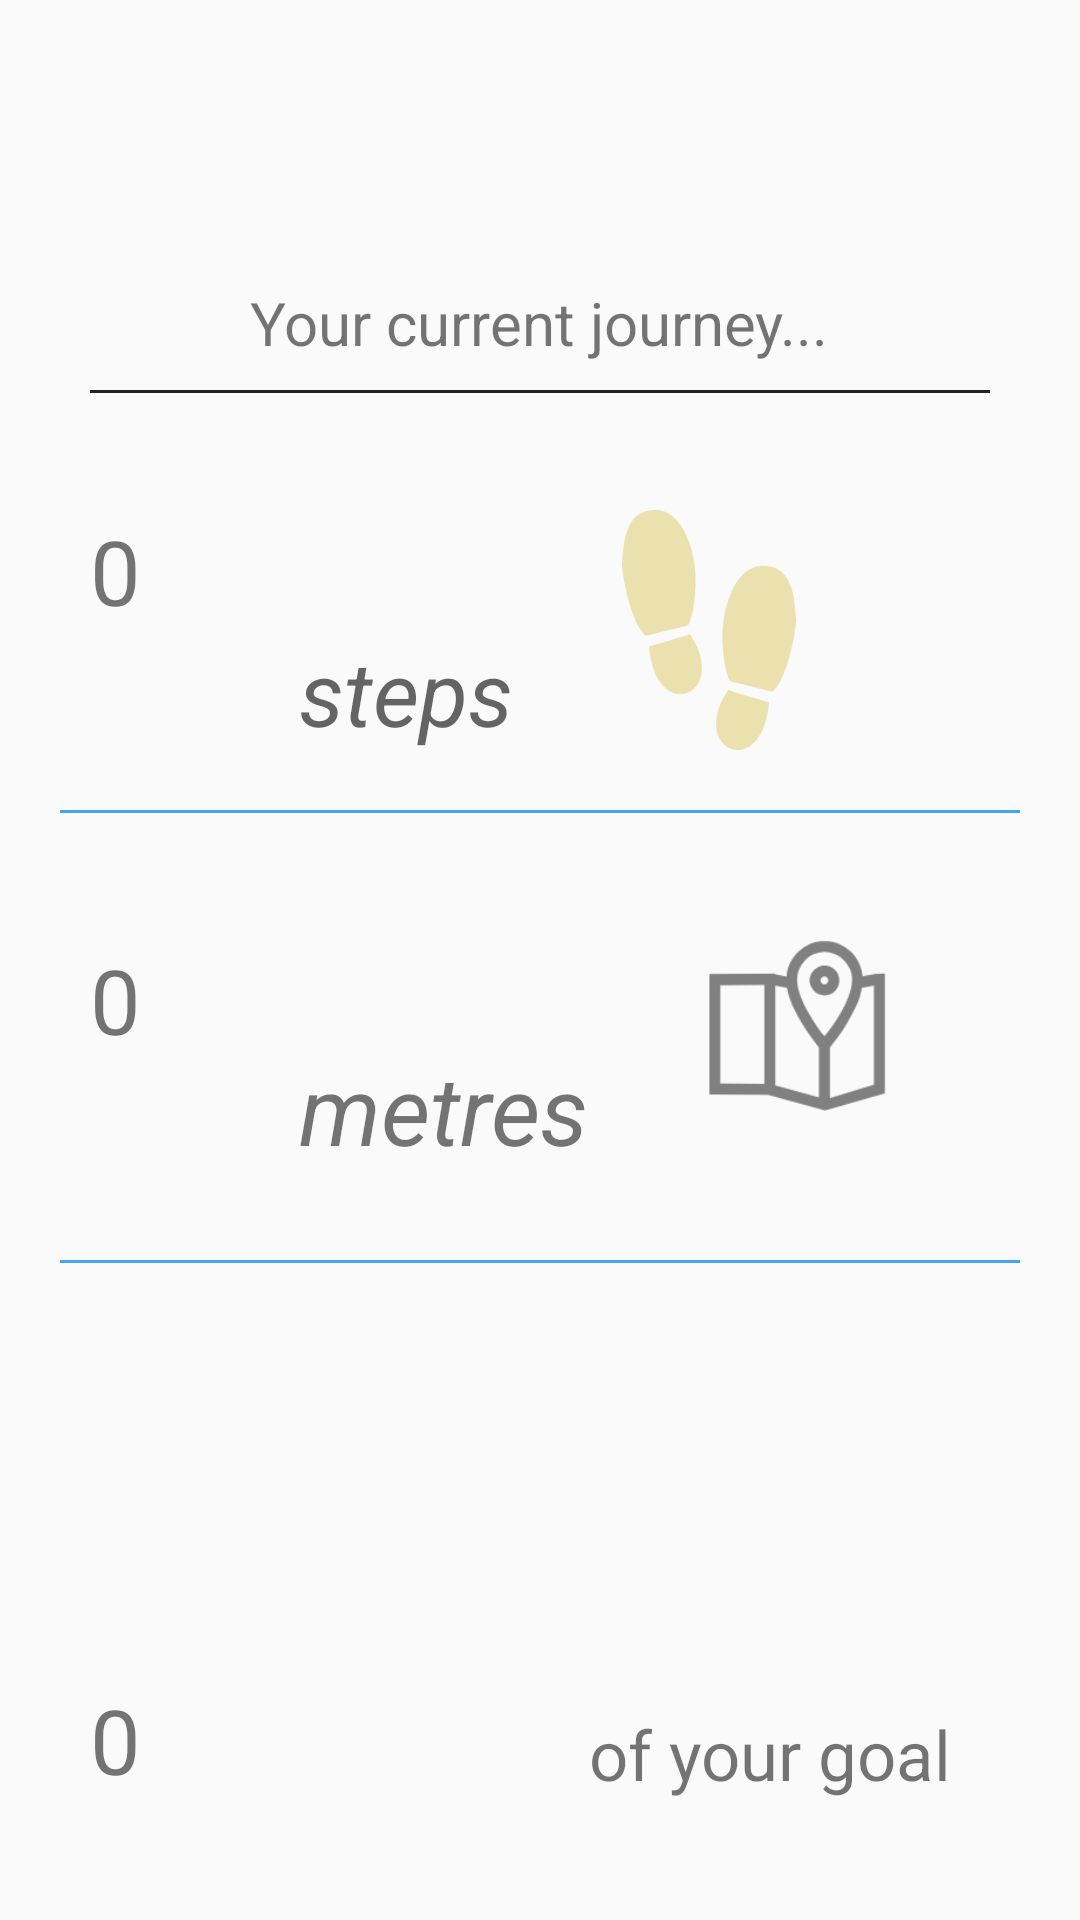

Named icons in this screenshot (1080×1920) and their centers, point (x, y):
map: point (797, 1026)
